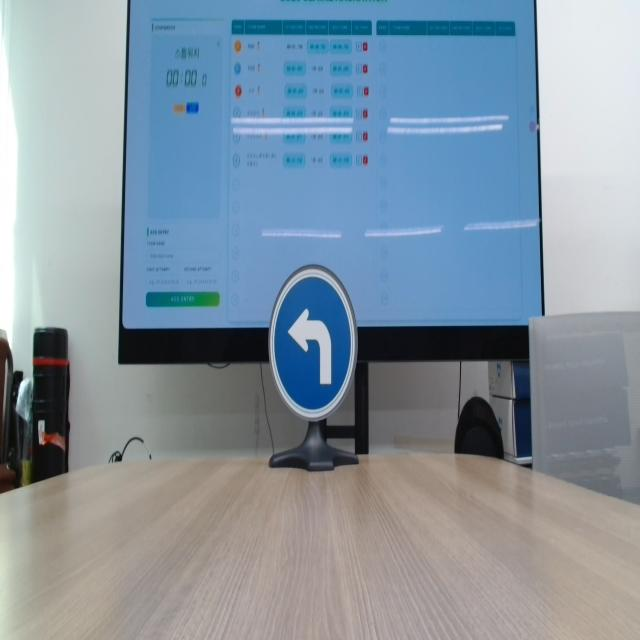left_direction: (268, 256, 359, 419)
